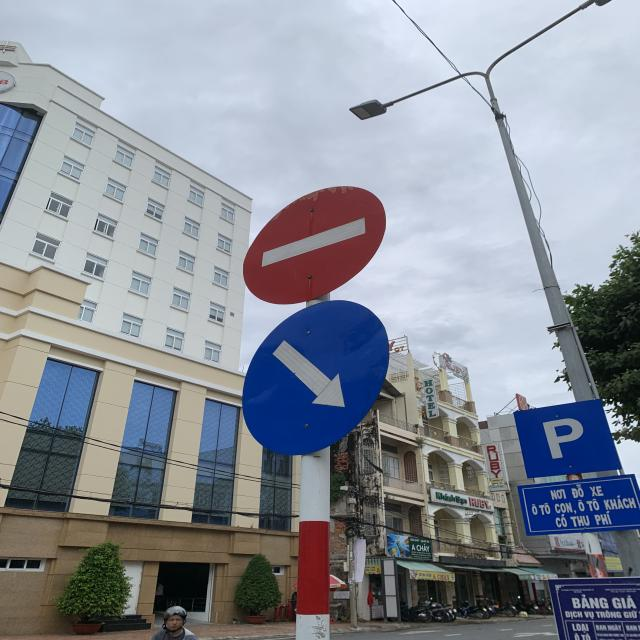Cam_Di_Nguoc_Chieu: (241, 184, 388, 306)
Chi_Huong_Di_Phai: (244, 302, 390, 454)
